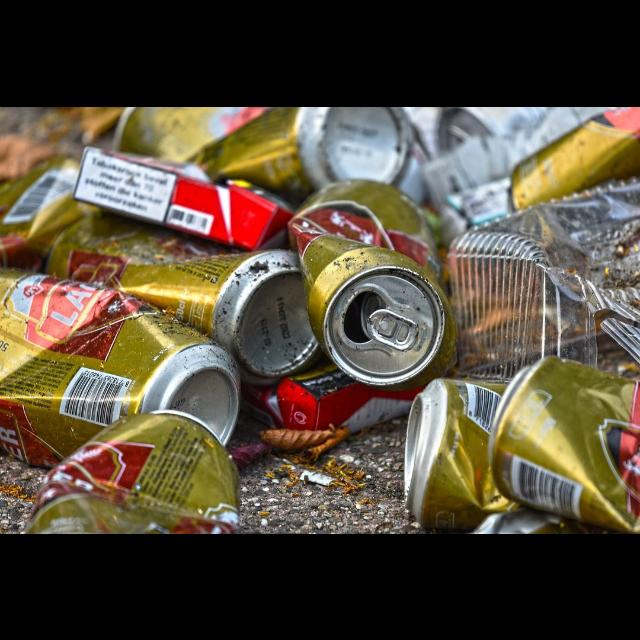trash: (1, 106, 638, 532), (0, 264, 242, 468), (446, 175, 640, 381), (286, 178, 458, 390), (22, 408, 240, 532)
